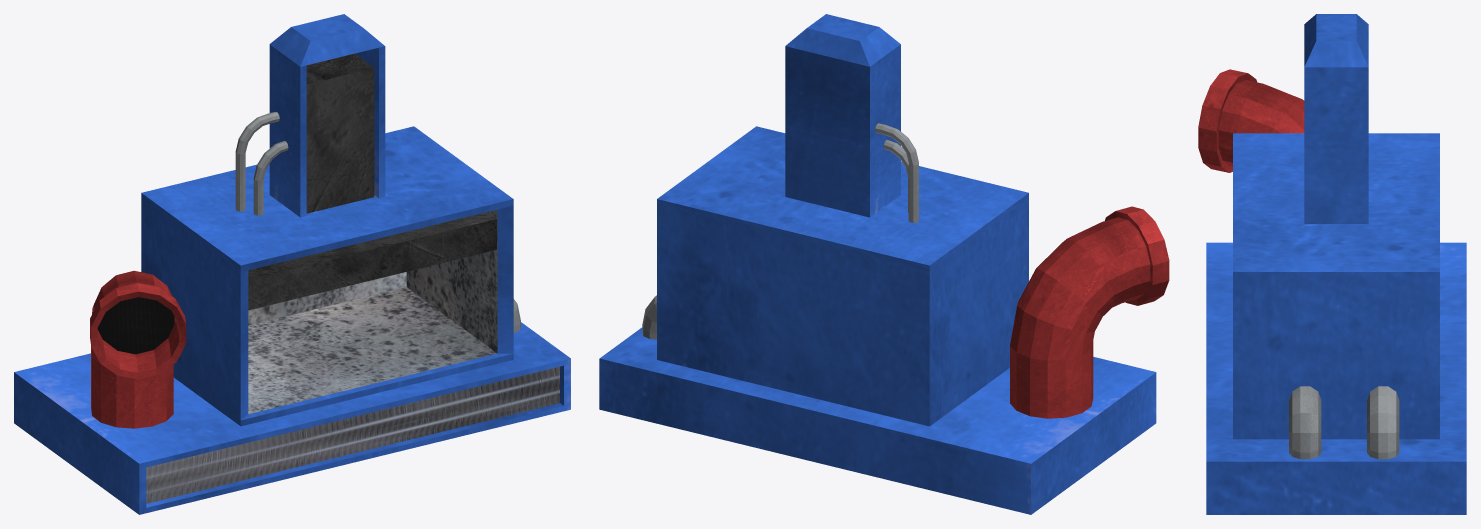
The model's file is PRENSAcaixa.glb.
3 renders of one model, left to right at view 1: azimuth 30°, elevation 25°; view 2: azimuth 150°, elevation 25°; view 3: azimuth 270°, elevation 25°, orthographic. The views are drawn at different scales.
Visible parts, largest first — view 1: Caixa, Prensa, Tubo, Canos; view 2: Caixa, Tubo, Canos; view 3: Caixa, Tubo, Canos.
Boxes of the visible parts, x1,y1,x2,y2 form: Caixa: (14, 14, 570, 514); Prensa: (248, 53, 496, 310); Tubo: (90, 270, 186, 428); Canos: (235, 112, 520, 332); Caixa: (599, 14, 1156, 514); Tubo: (1010, 206, 1169, 418); Canos: (642, 123, 918, 339); Caixa: (1206, 14, 1466, 514); Tubo: (1198, 69, 1304, 172); Canos: (1289, 386, 1399, 459).
Size of the model in its own units: 9.01 by 7.08 by 4.36.
Materials: 2 (2 with a texture image).
